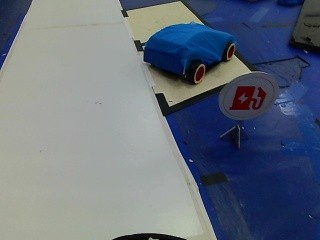battery: (215, 74, 276, 122)
car: (132, 18, 240, 85)
